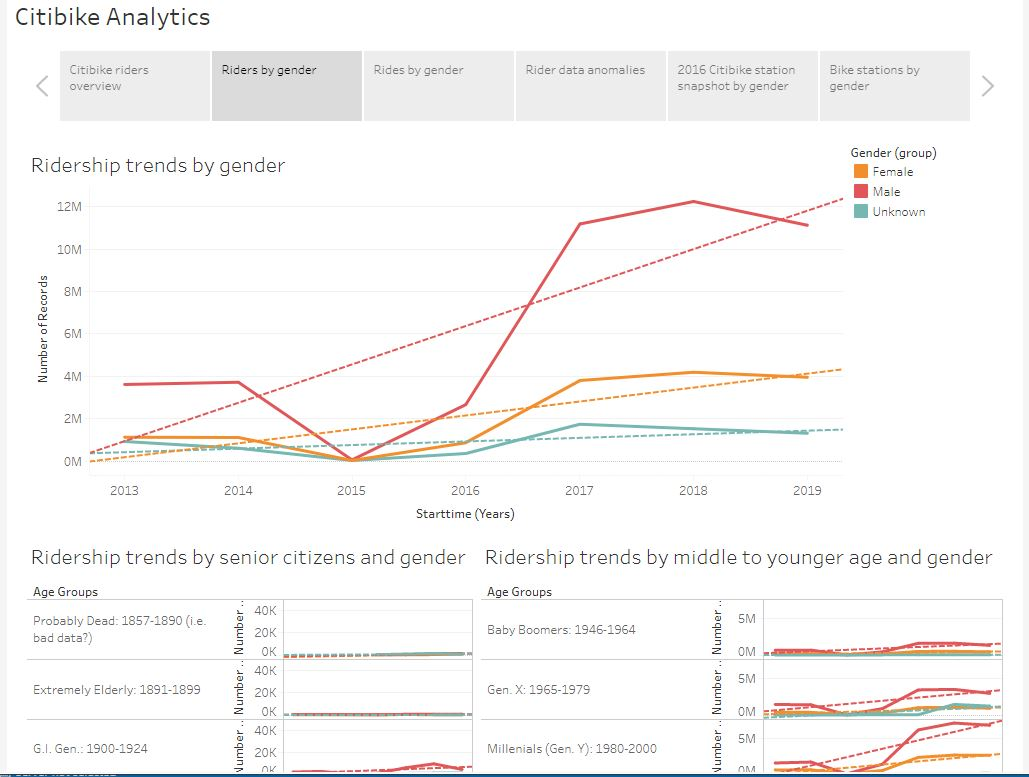

The dashboard page shown, as its layout file describes it:
{"tool":"tableau","page":{"name":"Riders by gender","canvas":[1000,800],"ordinal":2},"visuals":[{"type":"worksheet","title":"Ridership trends by gender","mark":"Automatic","rows":["Number of Records"],"cols":["Starttime (Years)"],"box":[8,8,824,392]},{"type":"legend","title":"Ridership trends by gender","param":"[federated.1ai8v7f0rhtwrv1g6mvor12yl9bw].[Gender (group)]","box":[832,8,160,86]},{"type":"worksheet","title":"Ridership trends by senior citizens and gender","mark":"Automatic","rows":["Number of Records"],"cols":["Starttime (Years)"],"box":[8,400,454,392]},{"type":"worksheet","title":"Ridership trends by middle to younger age and gender","mark":"Automatic","rows":["Number of Records"],"cols":["Starttime (Years)"],"box":[462,400,530,392]}]}

Visuals, with their boxes on the page's 1000x800 design canvas (x1, y1, x2, y2). These are canvas units, not pixel positions in the 1029x777 screenshot, which may show the page scaled, cropped or inside an application window:
"Ridership trends by gender" worksheet: Rect(8, 8, 832, 400)
"Ridership trends by gender" legend: Rect(832, 8, 992, 94)
"Ridership trends by senior citizens and gender" worksheet: Rect(8, 400, 462, 792)
"Ridership trends by middle to younger age and gender" worksheet: Rect(462, 400, 992, 792)
